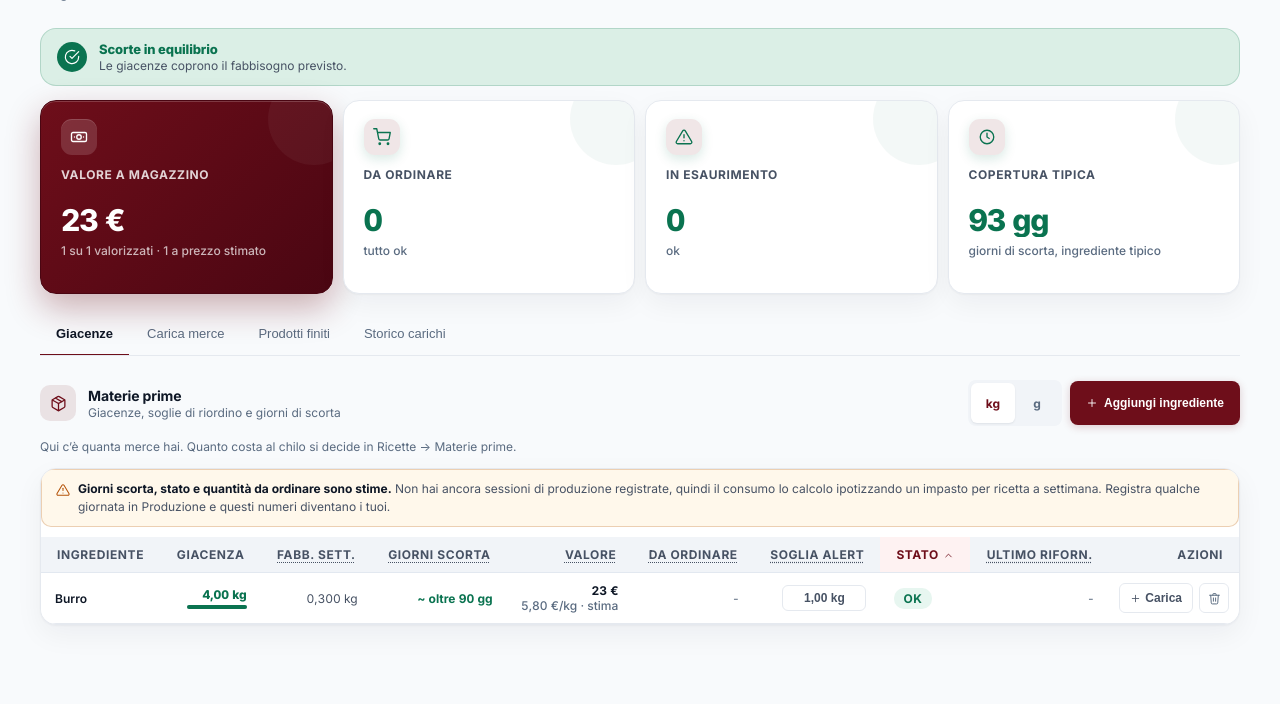
it: carica merce — dopo un salvataggio il modo torna su «carico» › e il pulsante «Carico merce» è quello selezionato quando si riapre
Click the tab "Carica merce" at (186, 334), box x1=131 y1=312 x2=240 y2=356
(page scrolled)
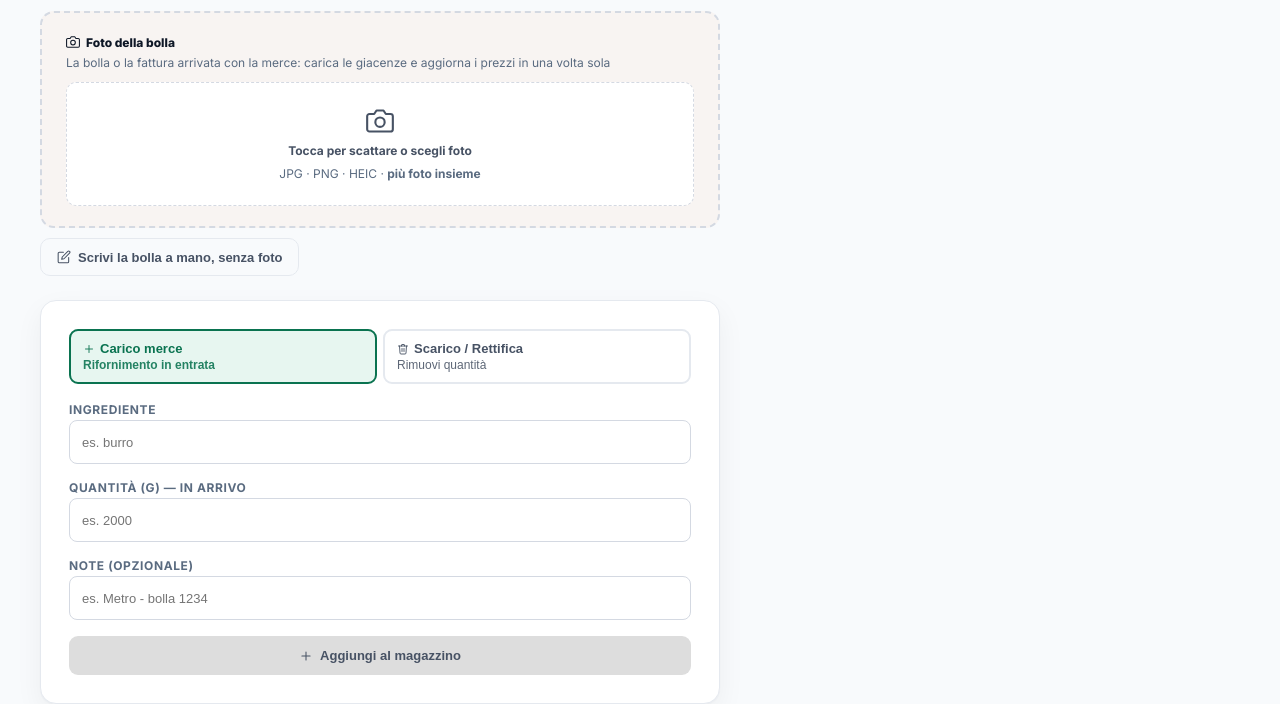
Result: the field with id "mag-qty-input" is shown at x1=69 y1=498 x2=691 y2=542
Click the button "Scarico / Rettifica Rimuovi quantità" at (469, 348), box x1=383 y1=329 x2=691 y2=384
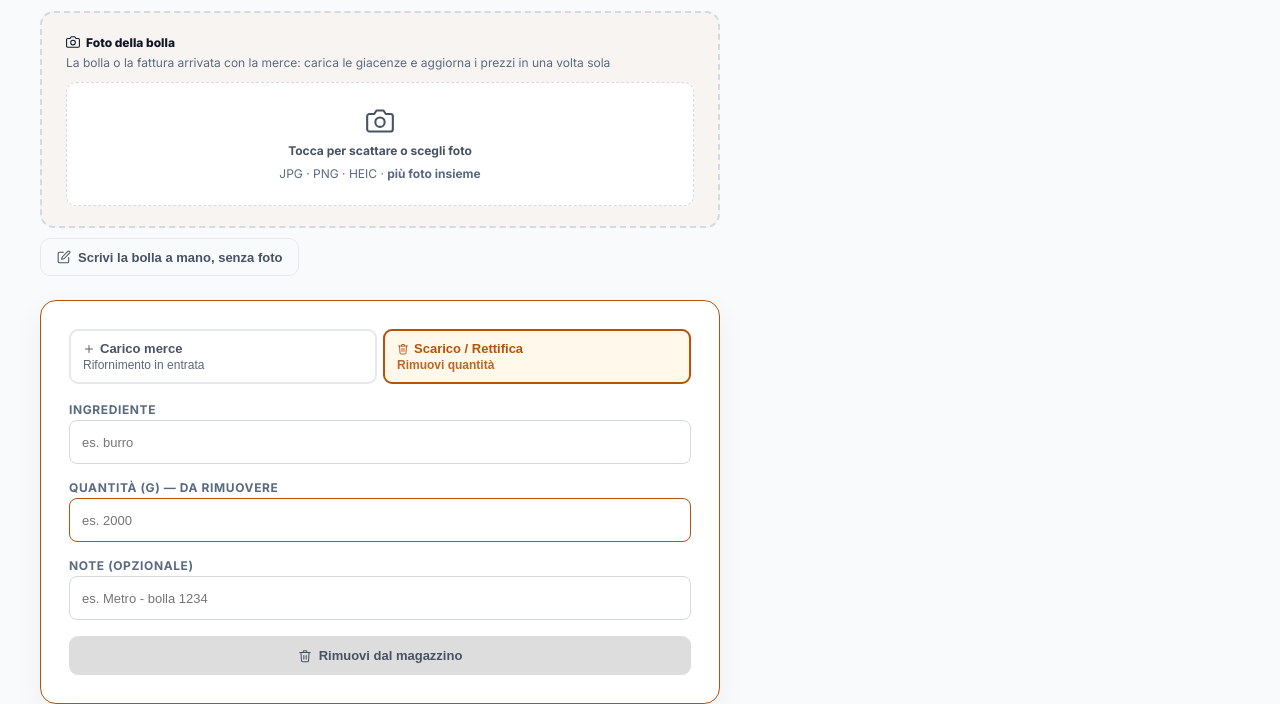
Type "burro" into the field with id "mag-ing-input" at (380, 442), box x1=69 y1=420 x2=691 y2=464
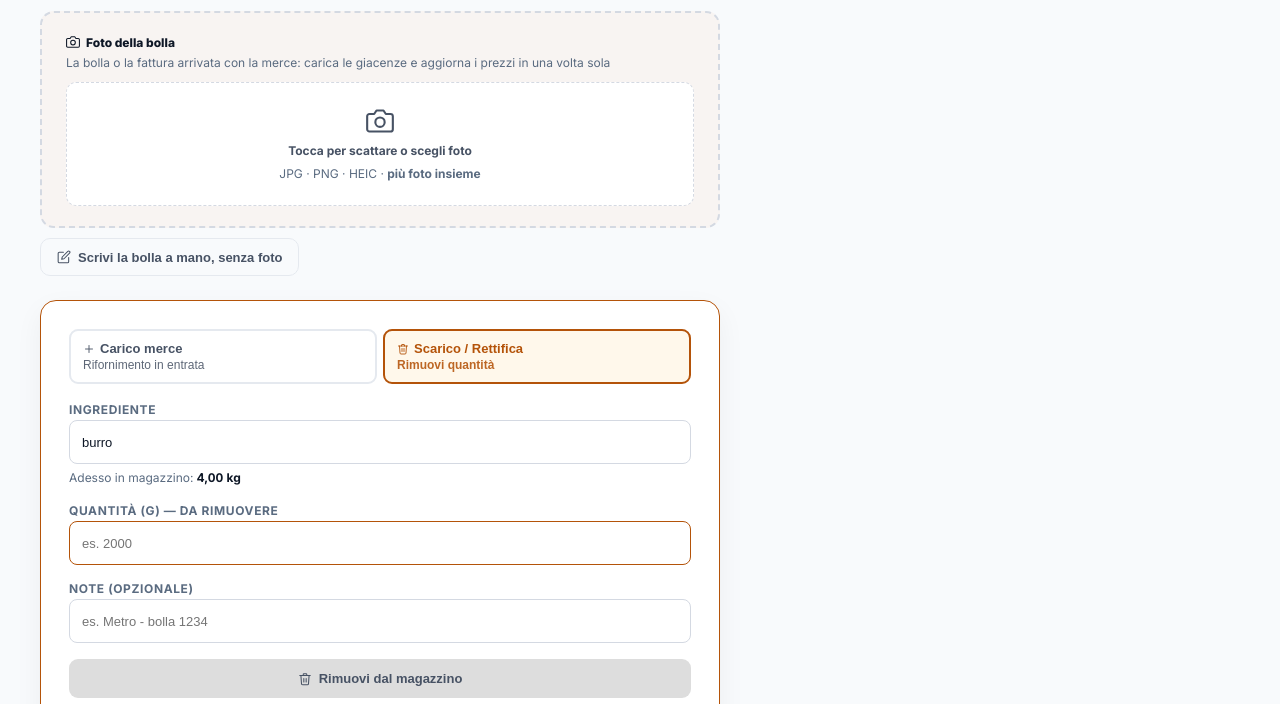
Type "100" into the field with id "mag-qty-input" at (380, 543), box x1=69 y1=521 x2=691 y2=565
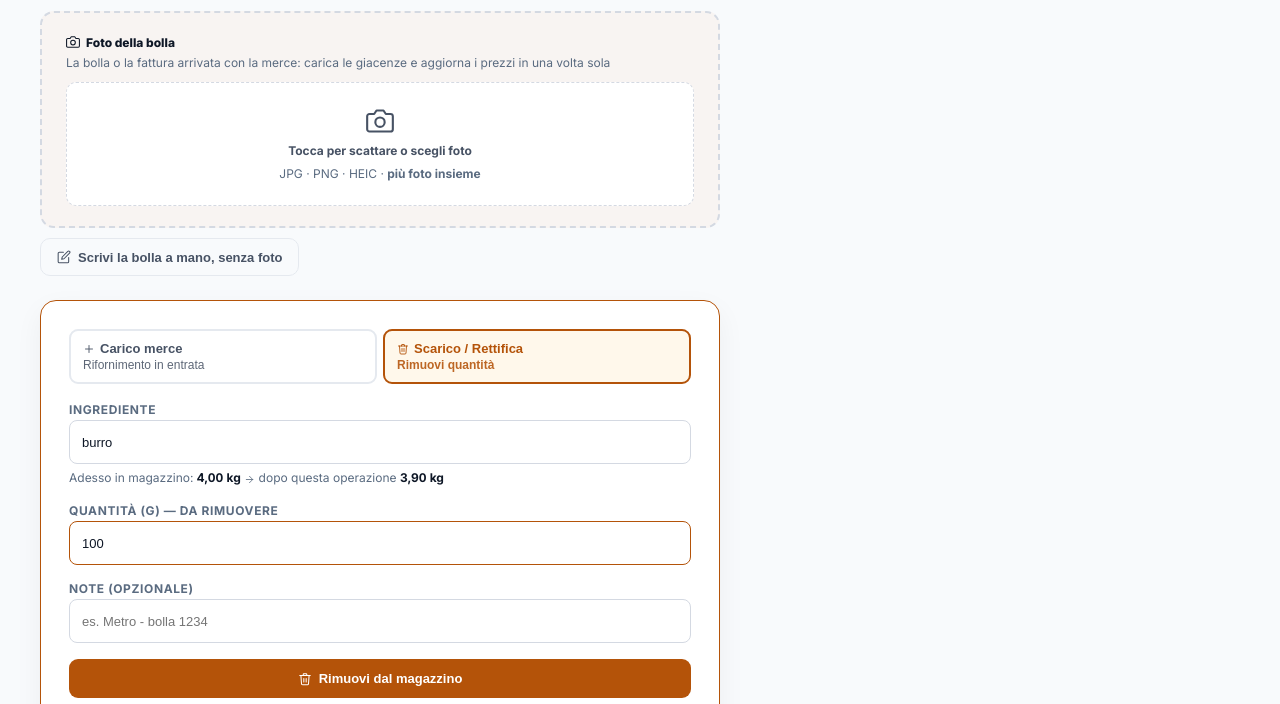
Press Enter in the field with id "mag-qty-input", box x1=69 y1=521 x2=691 y2=565
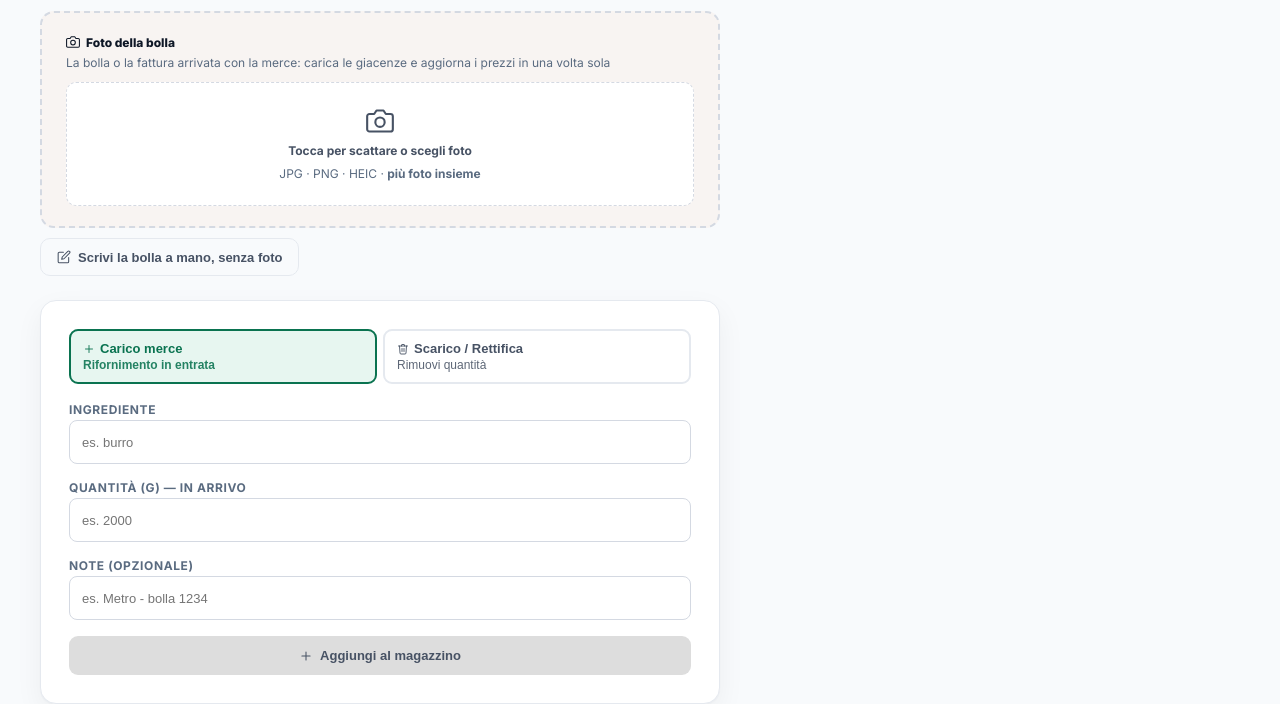
Result: the text "in arrivo" is shown at x1=180 y1=480 x2=246 y2=495
Result: the text "da rimuovere" is gone
